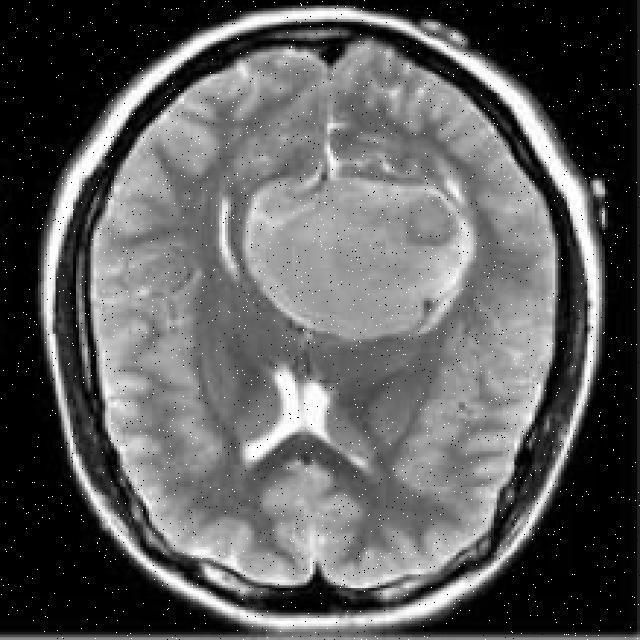Meningioma: (241, 171, 475, 339)
